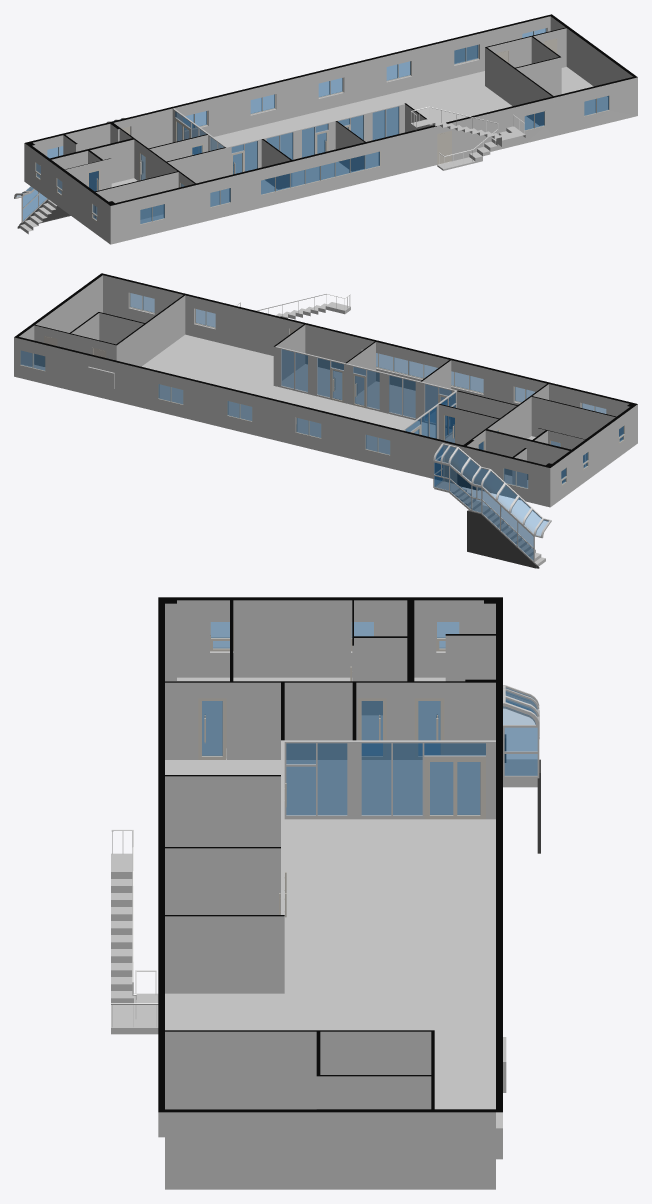
The picture shows the model from 3 angles, top to bottom: view 1: azimuth 30°, elevation 25°; view 2: azimuth 150°, elevation 25°; view 3: azimuth 270°, elevation 25°; orthographic projection. The views are drawn at different scales.
Visible parts, largest first — view 1: V2동_2F_벽, V2동_2F_바닥, V2동_2F_창문, V2동_2F_유리벽, V1-2동_외부 계단, V2동_2F_강화문, V2동_2F_방화문, V2동_외부계단, V2동_빗물막이; view 2: V2동_2F_벽, V2동_2F_바닥, V2동_2F_유리벽, V2동_2F_창문, V2동_빗물막이, V2동_외부계단, V2동_2F_강화문, V1-2동_외부 계단, V2동_2F_방화문; view 3: V2동_2F_벽, V2동_2F_바닥, V2동_2F_유리벽, V2동_2F_강화문, V1-2동_외부 계단, V2동_빗물막이, V2동_2F_창문, V2동_외부계단.
Boxes of the visible parts, x1=… form: V2동_2F_벽: x1=24, y1=14, x2=637, y2=244; V2동_2F_바닥: x1=111, y1=67, x2=607, y2=222; V2동_2F_창문: x1=35, y1=28, x2=609, y2=224; V2동_2F_유리벽: x1=172, y1=103, x2=404, y2=175; V1-2동_외부 계단: x1=410, y1=106, x2=525, y2=170; V2동_2F_강화문: x1=87, y1=118, x2=350, y2=191; V2동_2F_방화문: x1=122, y1=38, x2=557, y2=164; V2동_외부계단: x1=17, y1=199, x2=70, y2=234; V2동_빗물막이: x1=14, y1=118, x2=125, y2=222; V2동_2F_벽: x1=14, y1=273, x2=637, y2=507; V2동_2F_바닥: x1=32, y1=334, x2=585, y2=487; V2동_2F_유리벽: x1=275, y1=346, x2=457, y2=438; V2동_2F_창문: x1=19, y1=293, x2=624, y2=489; V2동_빗물막이: x1=433, y1=443, x2=551, y2=562; V2동_외부계단: x1=434, y1=481, x2=545, y2=568; V2동_2F_강화문: x1=330, y1=368, x2=562, y2=450; V1-2동_외부 계단: x1=235, y1=293, x2=350, y2=319; V2동_2F_방화문: x1=44, y1=328, x2=458, y2=483; V2동_2F_벽: x1=158, y1=597, x2=506, y2=1189; V2동_2F_바닥: x1=165, y1=677, x2=495, y2=1109; V2동_2F_유리벽: x1=281, y1=740, x2=495, y2=914; V2동_2F_강화문: x1=198, y1=666, x2=485, y2=917; V1-2동_외부 계단: x1=111, y1=829, x2=158, y2=1034; V2동_빗물막이: x1=503, y1=685, x2=539, y2=778; V2동_2F_창문: x1=210, y1=622, x2=506, y2=1092; V2동_외부계단: x1=503, y1=759, x2=540, y2=853.
Bounding box in the file's own units: 35.77 × 7.79 × 12.61.
